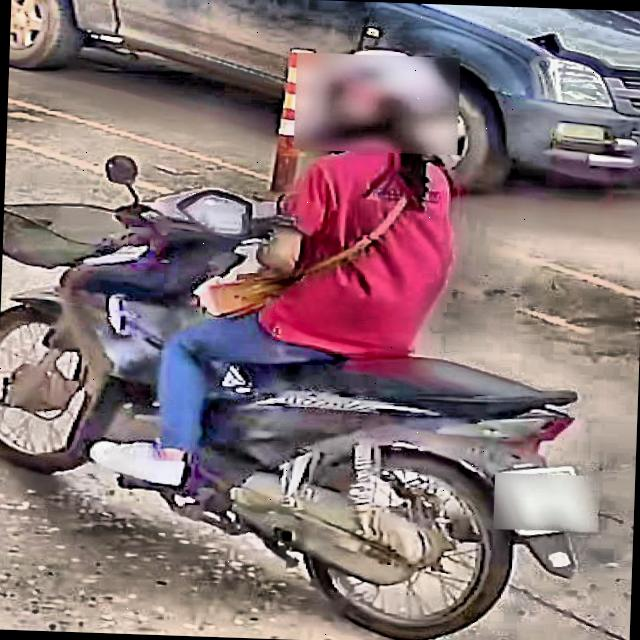motorcycle: (0, 147, 591, 640)
